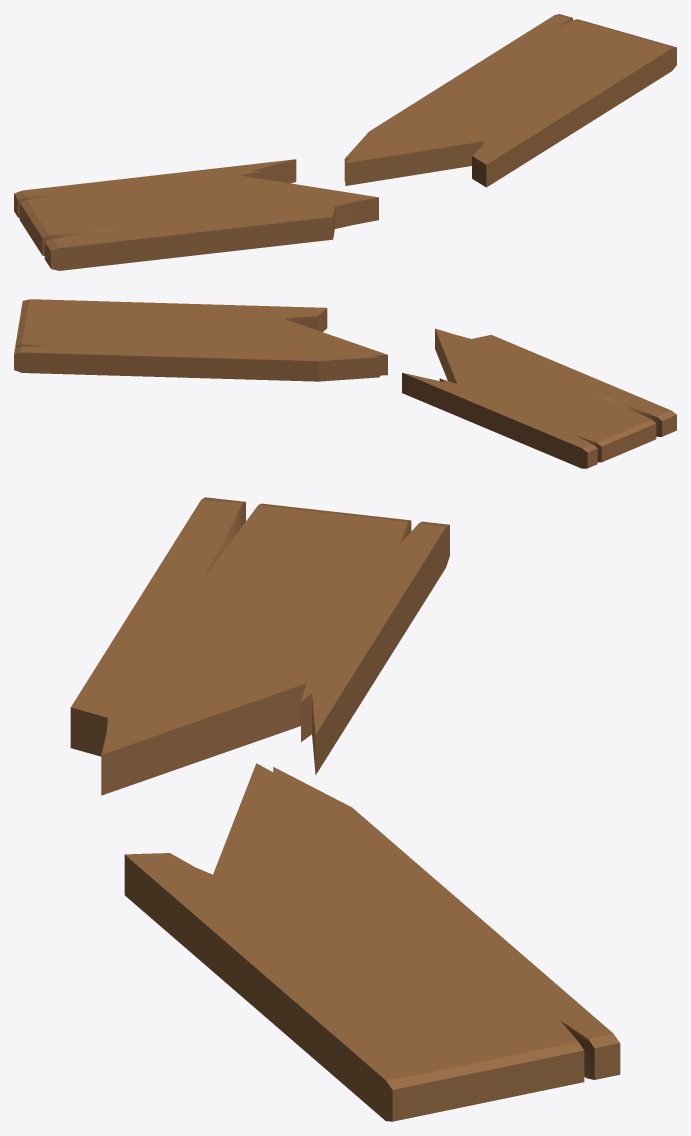
File: DoubleDoorWoodPlateBroken.fbx
The picture shows the model from 3 angles, top to bottom: view 1: azimuth 30°, elevation 25°; view 2: azimuth 150°, elevation 25°; view 3: azimuth 270°, elevation 25°; orthographic projection. The views are drawn at different scales.
Parts seen in each view (by area): view 1: DoubleDoorWoodenPlateBroken; view 2: DoubleDoorWoodenPlateBroken; view 3: DoubleDoorWoodenPlateBroken.
Part boxes in pixels (x1,y1,x2,y2): DoubleDoorWoodenPlateBroken: [14, 14, 676, 270]; DoubleDoorWoodenPlateBroken: [14, 299, 676, 468]; DoubleDoorWoodenPlateBroken: [70, 497, 620, 1121].
Size of the model in its own units: 236 by 7.57 by 92.45.
1 material, 1 textured.
